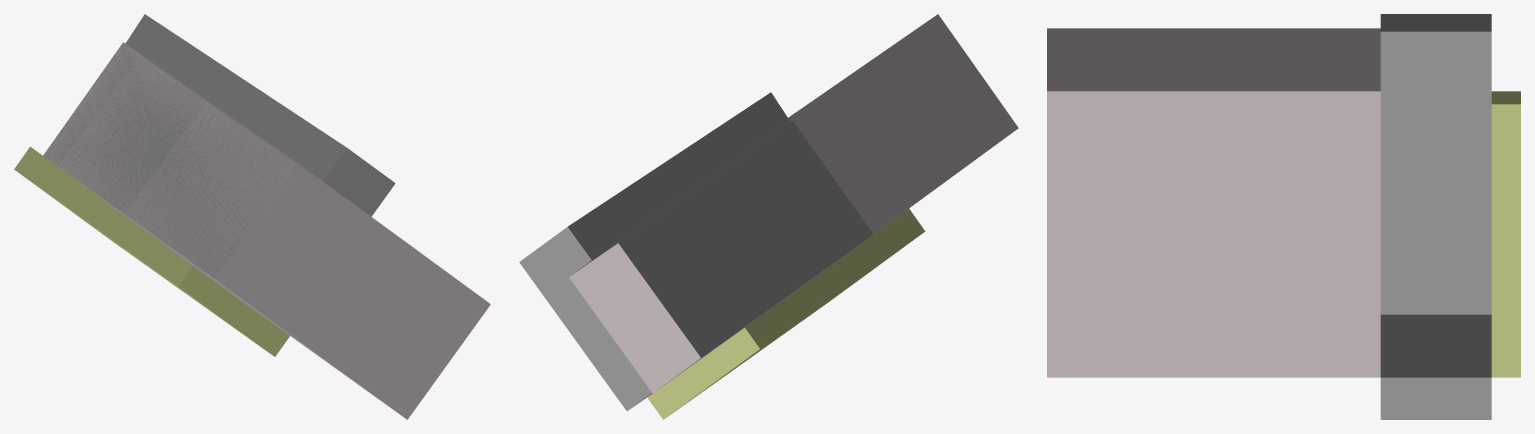
The picture shows the model from 3 angles, left to right: view 1: azimuth 30°, elevation 25°; view 2: azimuth 150°, elevation 25°; view 3: azimuth 270°, elevation 25°; orthographic projection. The views are drawn at different scales.
Visible parts, largest first — view 1: 0_1_2_0_3_0_2_2_3_1; view 2: 0_1_2_0_3_0_2_2_3_1; view 3: 0_1_2_0_3_0_2_2_3_1.
Boxes of the visible parts, left/top/right/bottom form: 0_1_2_0_3_0_2_2_3_1: left=14, top=14, right=490, bottom=419; 0_1_2_0_3_0_2_2_3_1: left=519, top=14, right=1018, bottom=419; 0_1_2_0_3_0_2_2_3_1: left=1047, top=14, right=1520, bottom=419.
Bounding box in the file's own units: 11.51 × 10.49 × 12.79.
